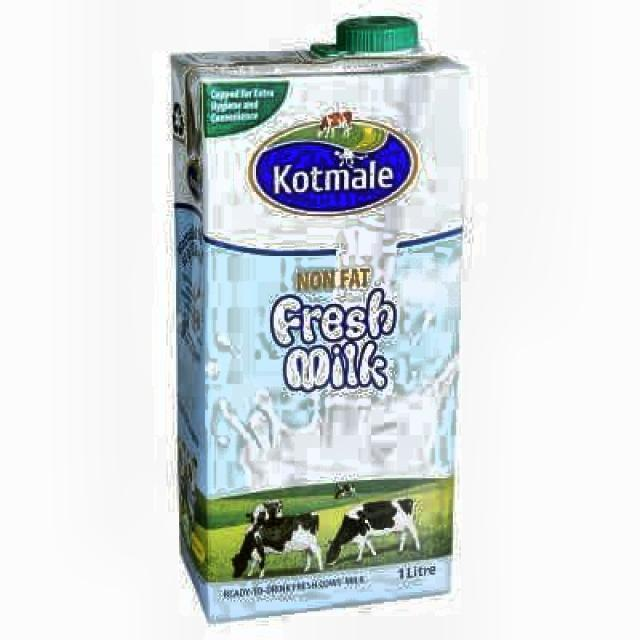cardboard: (170, 15, 468, 622)
